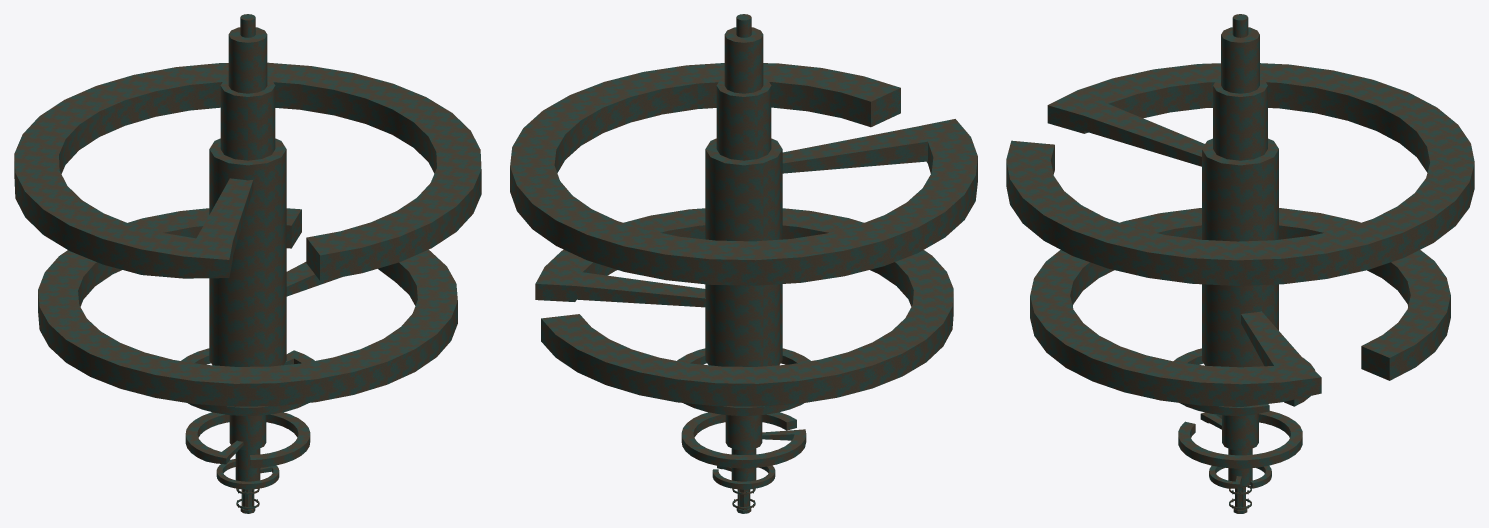
File: Crank.fbx
3 renders of one model, left to right at view 1: azimuth 30°, elevation 25°; view 2: azimuth 150°, elevation 25°; view 3: azimuth 270°, elevation 25°, orthographic.
Parts seen in each view (by area): view 1: Crank.001; view 2: Crank.001; view 3: Crank.001.
Boxes of the visible parts, box(x1,y1,x2,y2) form: Crank.001: box(14, 14, 481, 513); Crank.001: box(510, 14, 977, 513); Crank.001: box(1006, 14, 1474, 513).
Size of the model in its own units: 184 by 214 by 184.
1 material, 1 textured.
